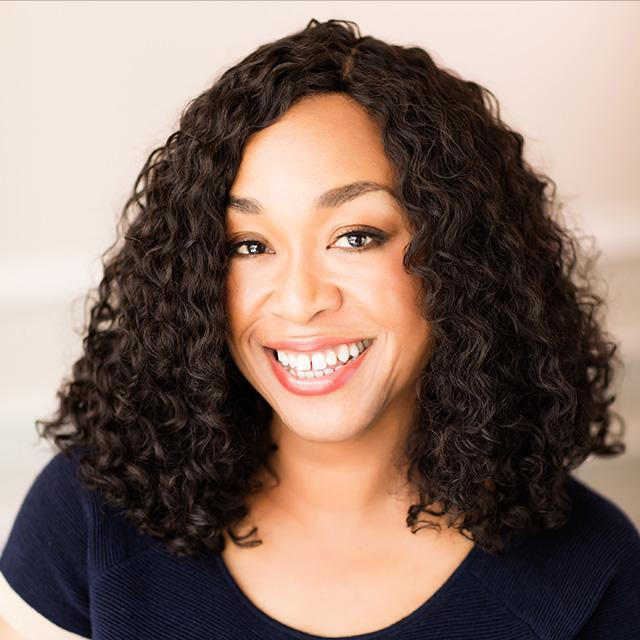mobile_phonerotation: (2, 17, 636, 637)
